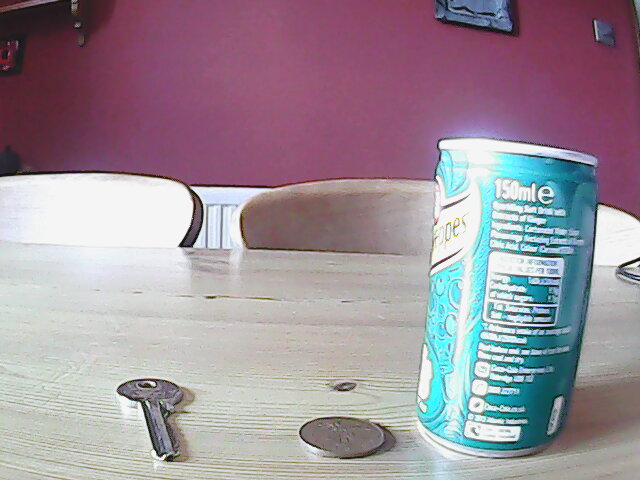Can: (411, 133, 607, 466)
Coin: (111, 376, 193, 467)
Key: (291, 413, 387, 462)
